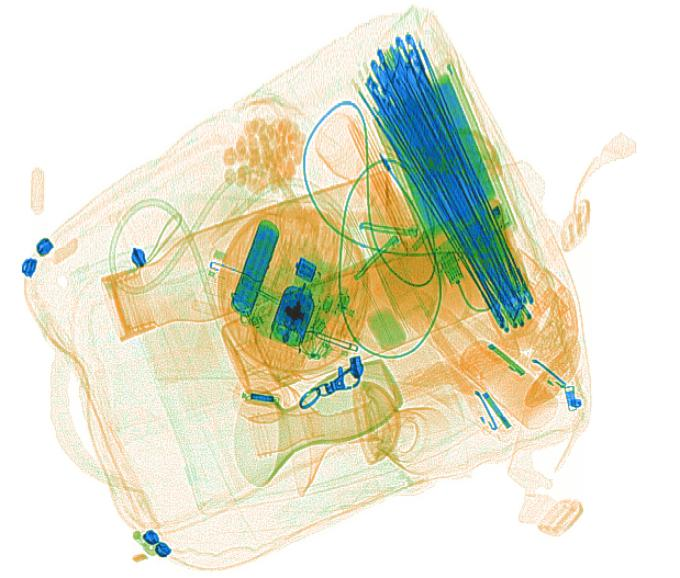battery: (227, 216, 282, 317)
